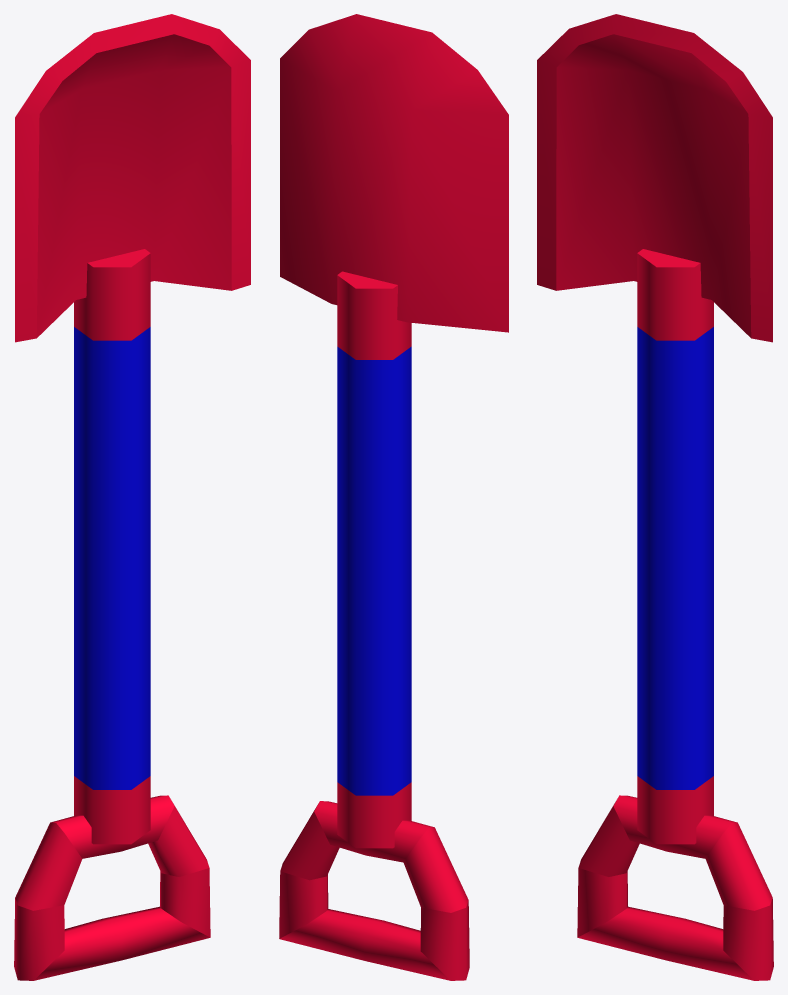
File: MinigRoom_Shovel.fbx
3 views of the same model, side by side, from view 1: azimuth 30°, elevation 25°; view 2: azimuth 150°, elevation 25°; view 3: azimuth 330°, elevation 25° (orthographic). The views are drawn at different scales.
Parts seen in each view (by area): view 1: MinigRoom_Shovel; view 2: MinigRoom_Shovel; view 3: MinigRoom_Shovel.
Part boxes in pixels (x1,y1,x2,y2): MinigRoom_Shovel: [14, 14, 250, 980]; MinigRoom_Shovel: [279, 14, 508, 980]; MinigRoom_Shovel: [537, 14, 773, 980].
Size of the model in its own units: 68.69 by 264 by 21.47.
